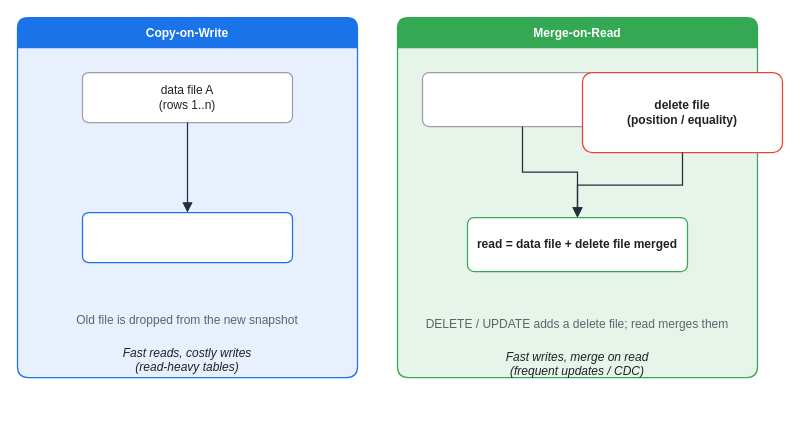
Image size: 801x421. Some labels were removed from this diagram. Each missing label, with the centre of its shape:
data file A (kept): [522,99]
new data file A' (rewritten): [187,237]
